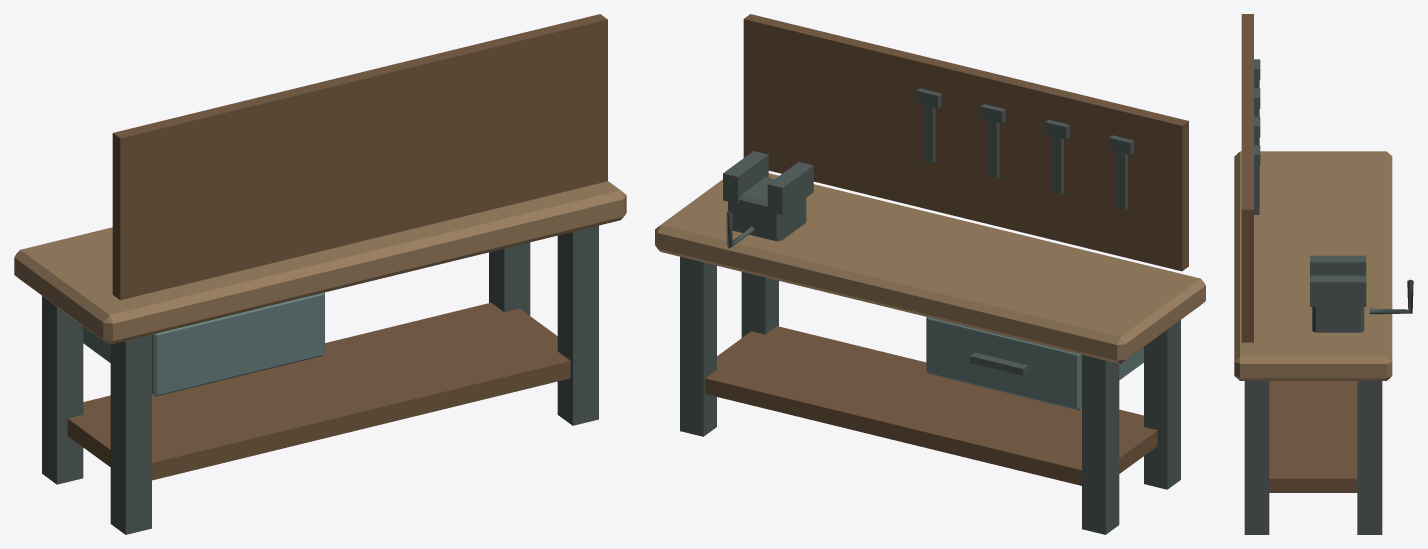
Rendered from home_workbench.glb.
3 renders of one model, left to right at view 1: azimuth 30°, elevation 25°; view 2: azimuth 150°, elevation 25°; view 3: azimuth 270°, elevation 25°, orthographic. The views are drawn at different scales.
Parts seen in each view (by area): view 1: home_workbench; view 2: home_workbench; view 3: home_workbench.
Boxes of the visible parts, <box> form: home_workbench: <box>14,14,626,534</box>; home_workbench: <box>655,14,1205,534</box>; home_workbench: <box>1234,14,1413,534</box>.
Bounding box in the file's own units: 2.2 × 1.61 × 0.794.
